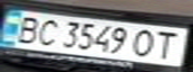3: (57, 18, 81, 51)
4: (93, 22, 115, 54)
5: (75, 20, 96, 52)
9: (109, 25, 133, 56)
B: (9, 12, 45, 44)
C: (30, 16, 63, 47)
O: (127, 27, 163, 58)
T: (148, 28, 187, 61)
